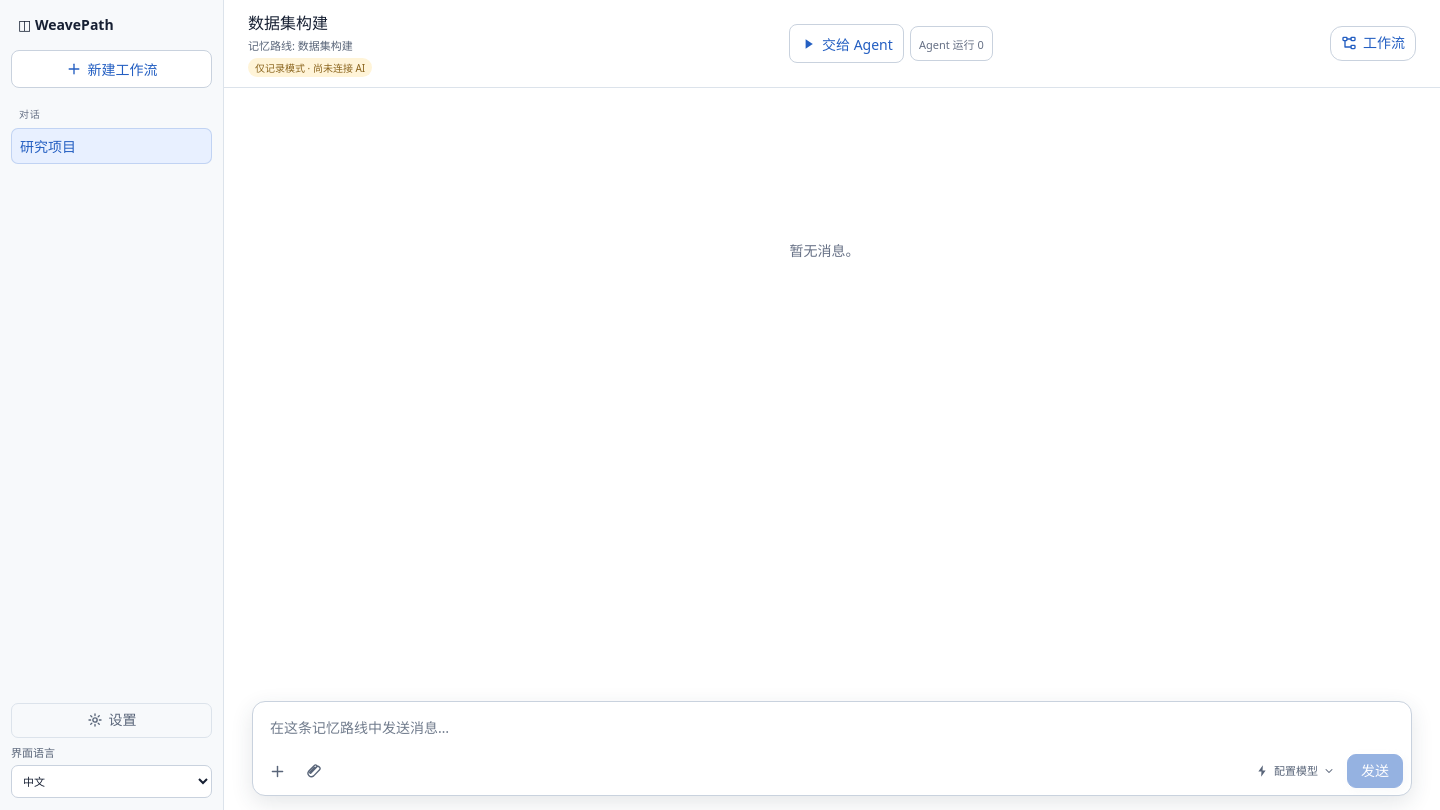
Test: chat delivery mode › opens a route-scoped file library from the compact composer toolbar
expect the text "仅记录模式 · 尚未连接 AI" is shown: met, box [248,58,372,77]
Click the button named "路线文件".
click(314, 771)  # box [298,755,330,787]
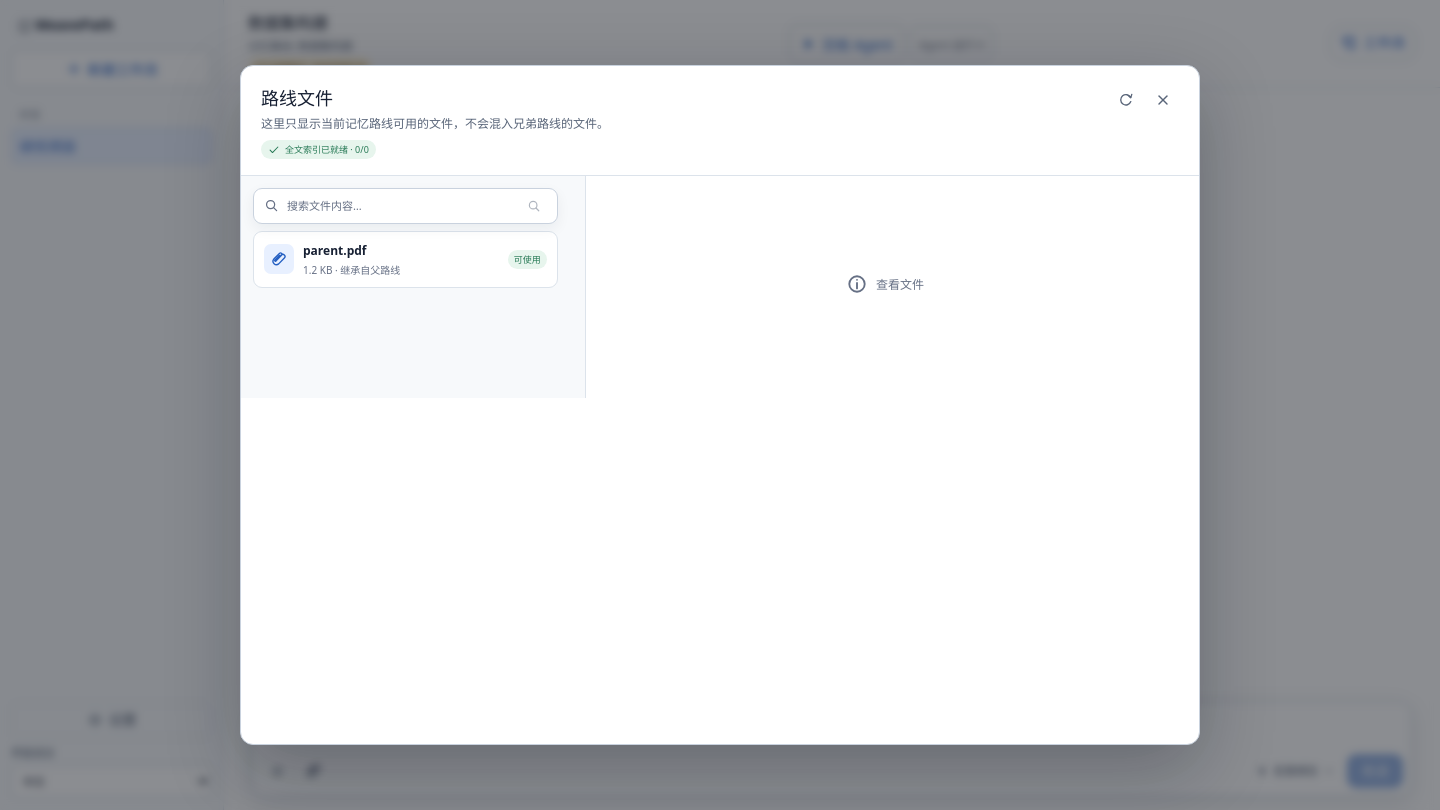
expect the heading "路线文件" is shown: met, box [261,86,333,110]
expect the button "parent.pdf 1.2 KB · 继承自父路线 可使用" is shown: met, box [253,230,558,288]
